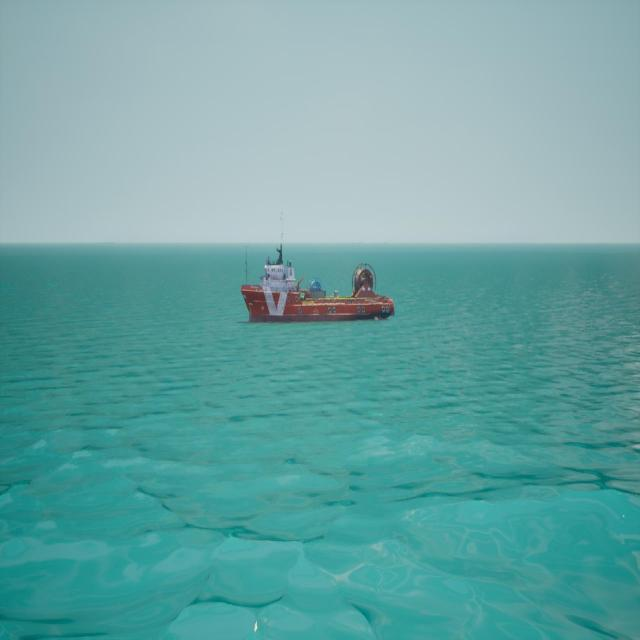tug boat: (241, 244, 395, 327)
